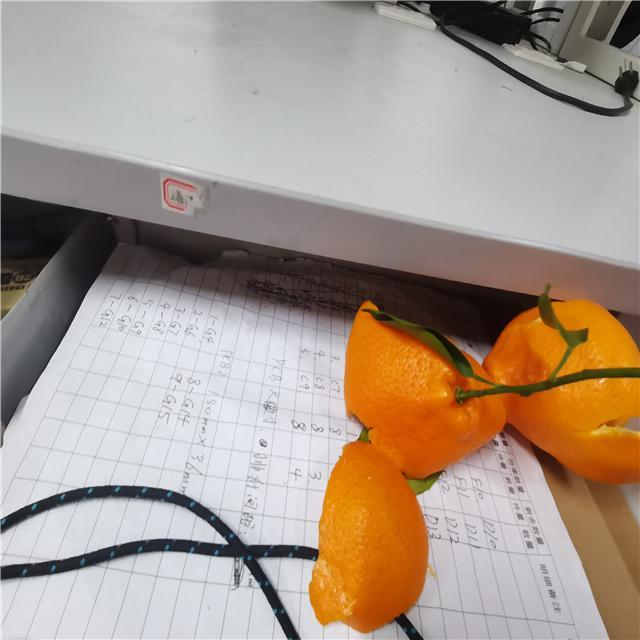orange-peel: (481, 292, 639, 484), (342, 299, 507, 479), (307, 439, 429, 633)
